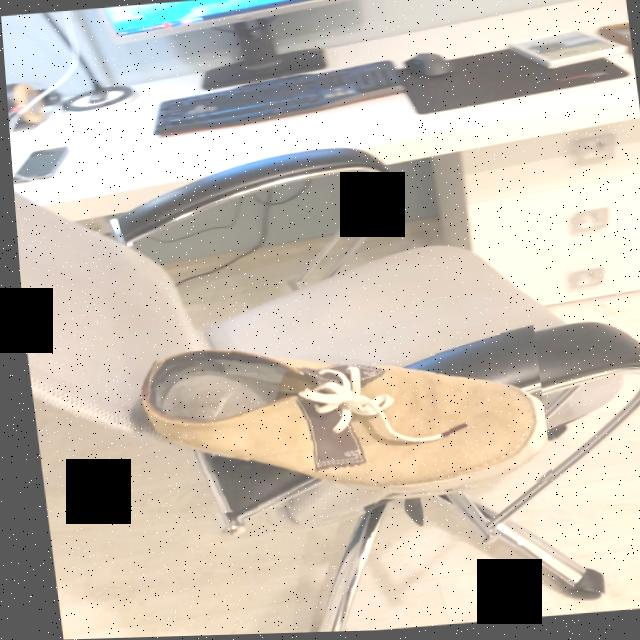shoe: (132, 352, 541, 498)
